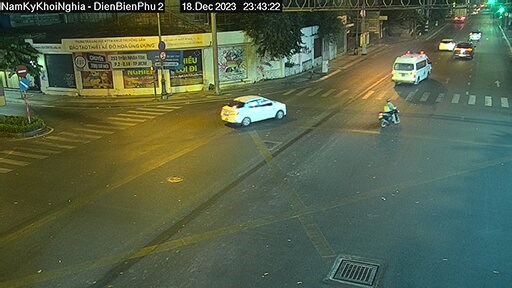car: (213, 91, 292, 130), (393, 52, 440, 80), (436, 34, 462, 53), (458, 42, 475, 62), (467, 27, 486, 42)
motorbike: (364, 91, 413, 127)
truck: (454, 4, 471, 18)
